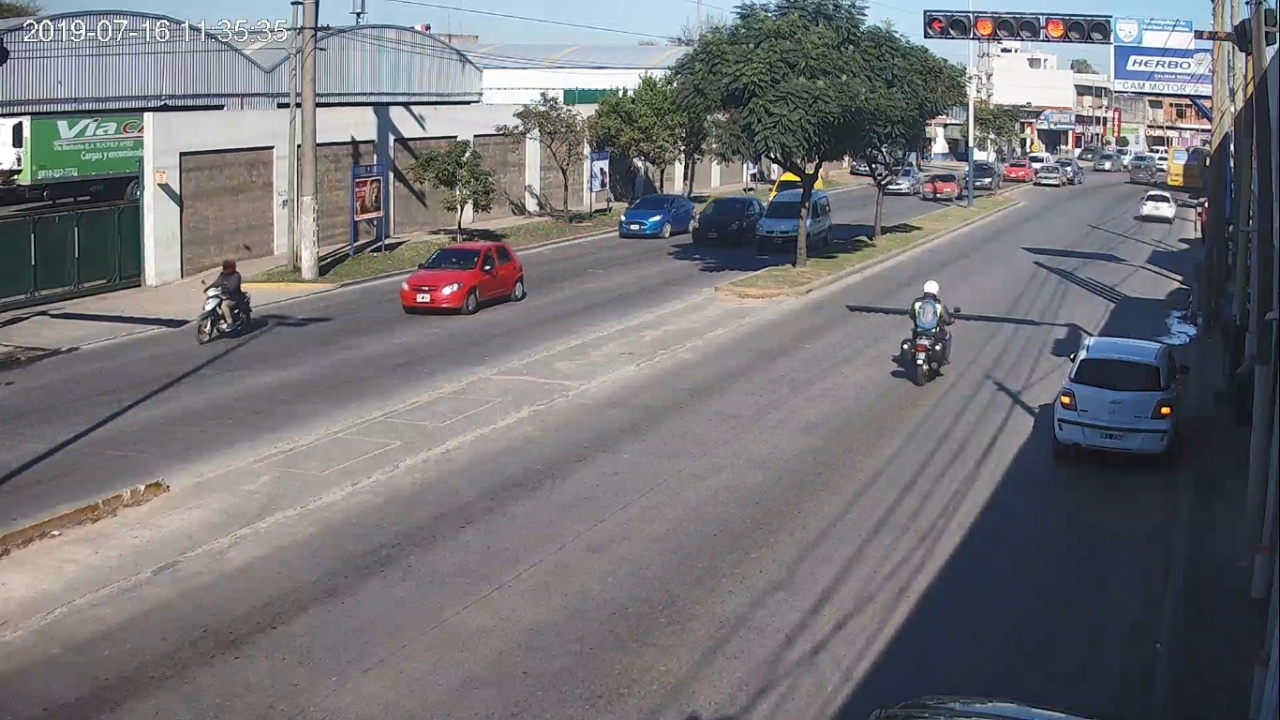car: (1053, 336, 1190, 460)
front car: (400, 242, 524, 314)
front motorcycle: (195, 275, 252, 343)
motorcycle: (901, 299, 961, 386)
traffic light: (975, 14, 1110, 42)
